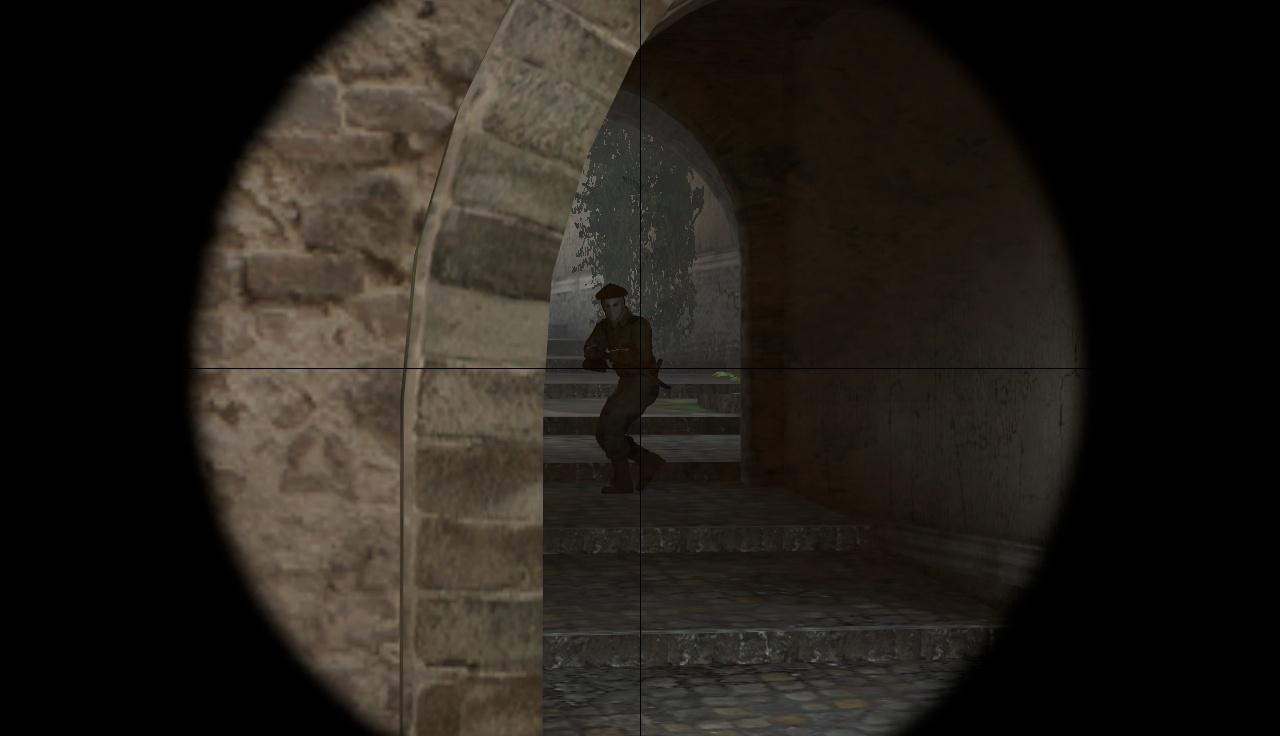tt: (591, 283, 660, 496)
tthead: (601, 284, 626, 321)
